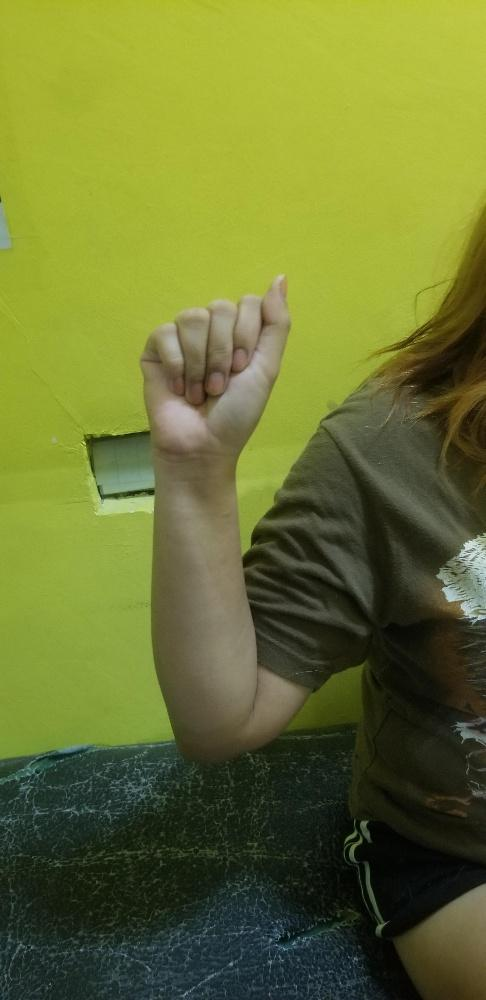a: (138, 274, 291, 447)
